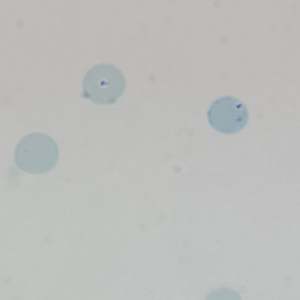erythrocyte: (12, 131, 60, 176), (80, 62, 126, 106)
punctate reticulocyte: (207, 95, 250, 136)
